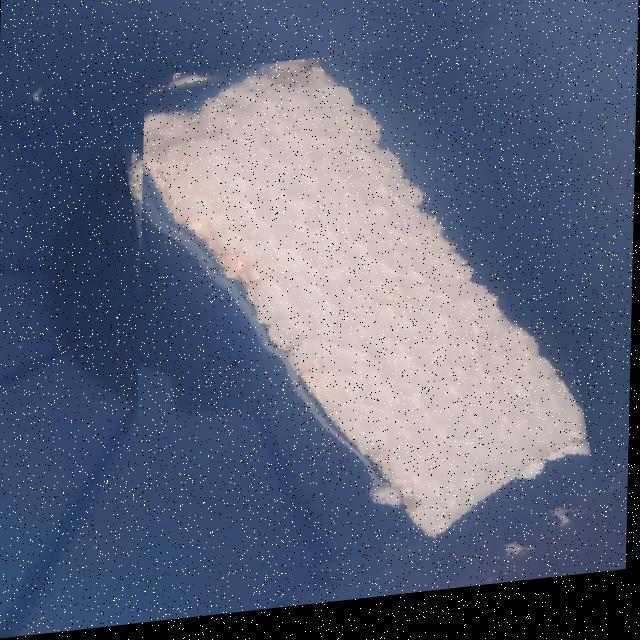thermocoal: (135, 42, 587, 619)
